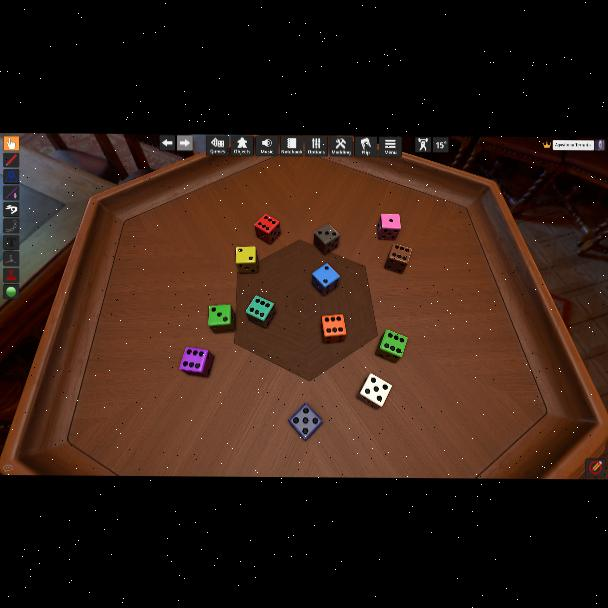d6: (357, 374, 391, 410), (288, 404, 318, 441), (376, 329, 408, 363), (180, 346, 214, 377), (245, 295, 275, 329), (384, 243, 411, 275), (312, 265, 338, 298), (254, 213, 280, 245), (314, 224, 340, 255), (320, 315, 346, 344), (208, 305, 234, 334), (377, 214, 401, 242), (236, 246, 258, 274)
